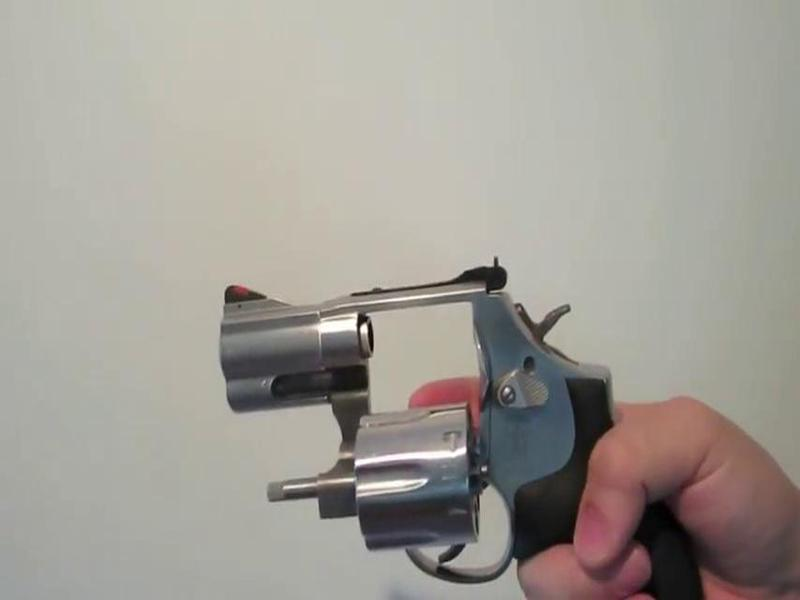Revolver: (207, 250, 695, 600)
